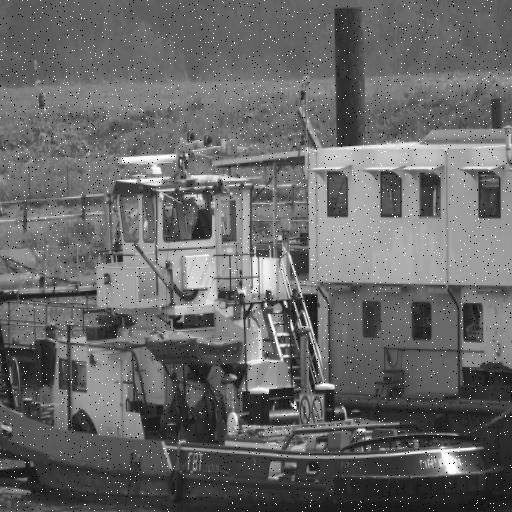tugboat: (1, 132, 508, 512)
